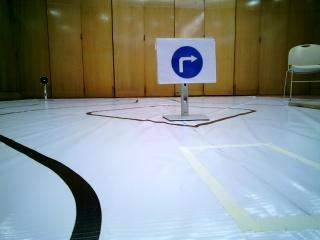right: (157, 40, 213, 81)
